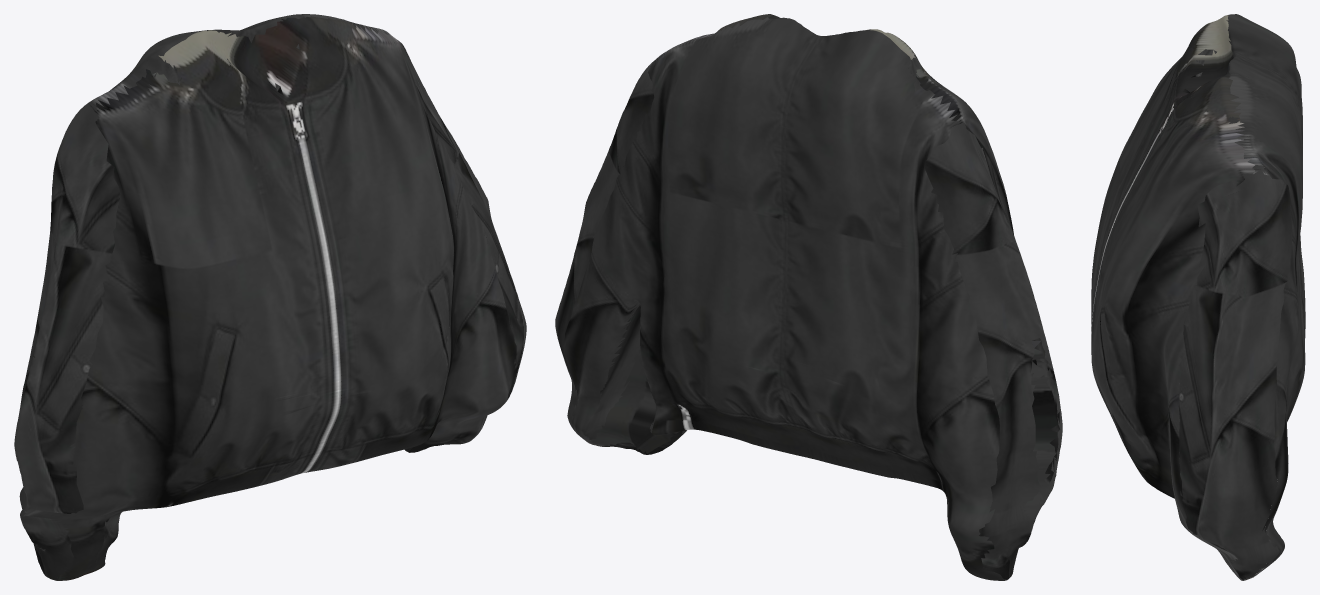
Rendered from NF001-fit-v5.glb.
The picture shows the model from 3 angles, left to right: view 1: azimuth 30°, elevation 25°; view 2: azimuth 150°, elevation 25°; view 3: azimuth 270°, elevation 25°; orthographic projection. The views are drawn at different scales.
Parts seen in each view (by area): view 1: NF001_worn_photo_fitted; view 2: NF001_worn_photo_fitted; view 3: NF001_worn_photo_fitted.
Part boxes in pixels (bbox=[...]): NF001_worn_photo_fitted: bbox=[14, 14, 526, 580]; NF001_worn_photo_fitted: bbox=[555, 14, 1062, 580]; NF001_worn_photo_fitted: bbox=[1091, 14, 1305, 580].
Bounding box in the file's own units: 0.6247 × 0.6077 × 0.2495.
Materials: 3 (3 with a texture image).
